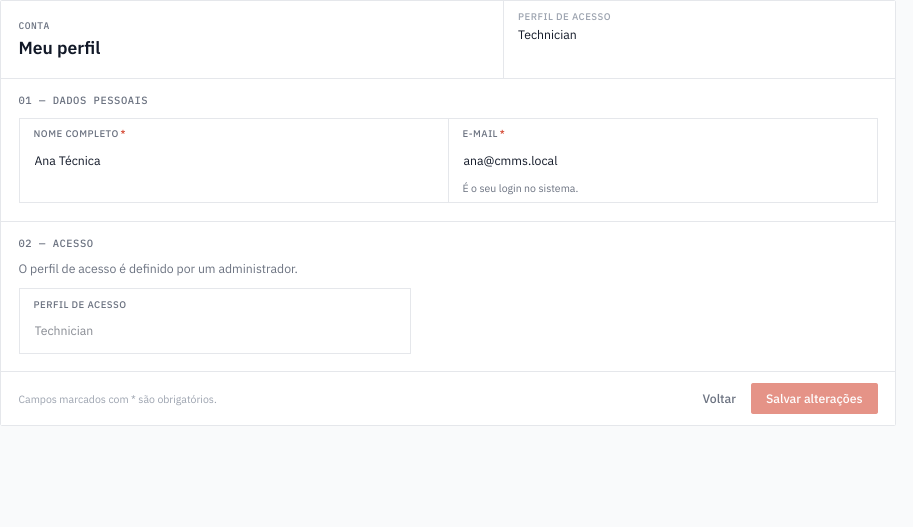
ProfilePage › deve pedir a senha atual quando o e-mail muda
Replace the text in the field labelled "E-mail" with "ana.nova@cmms.local" at (662, 160), box top-left (462, 144), bottom-right (862, 176)
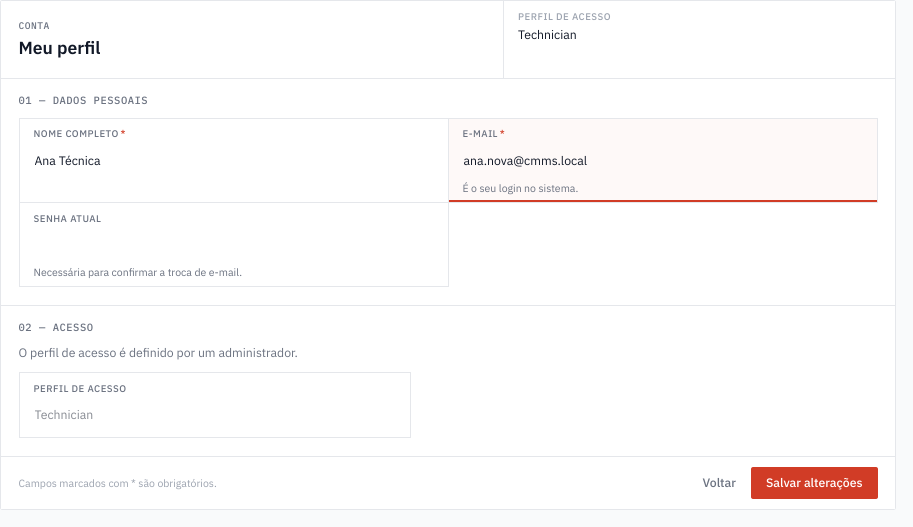
Click the button "Salvar alterações" at (814, 483), box top-left (751, 467), bottom-right (878, 499)
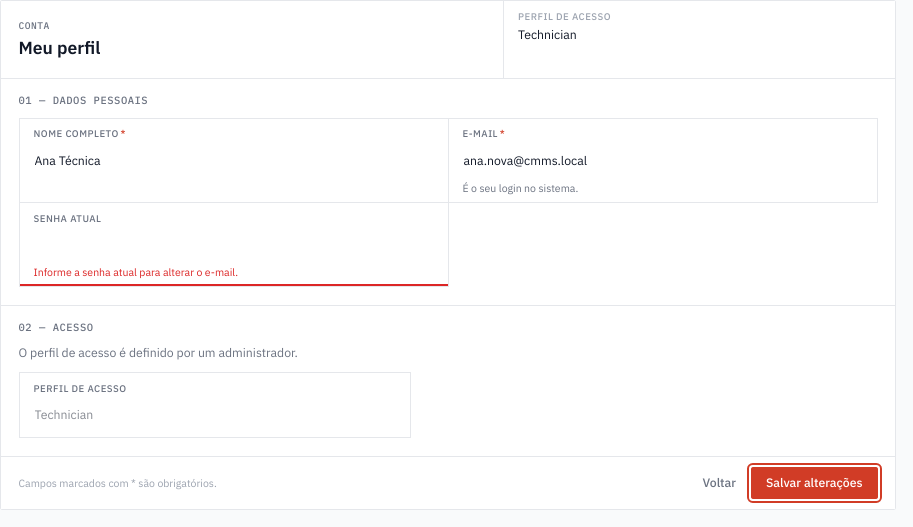
Expected: the text "Informe a senha atual para alterar o e-mail." is shown, top-left (34, 265), bottom-right (238, 279)
